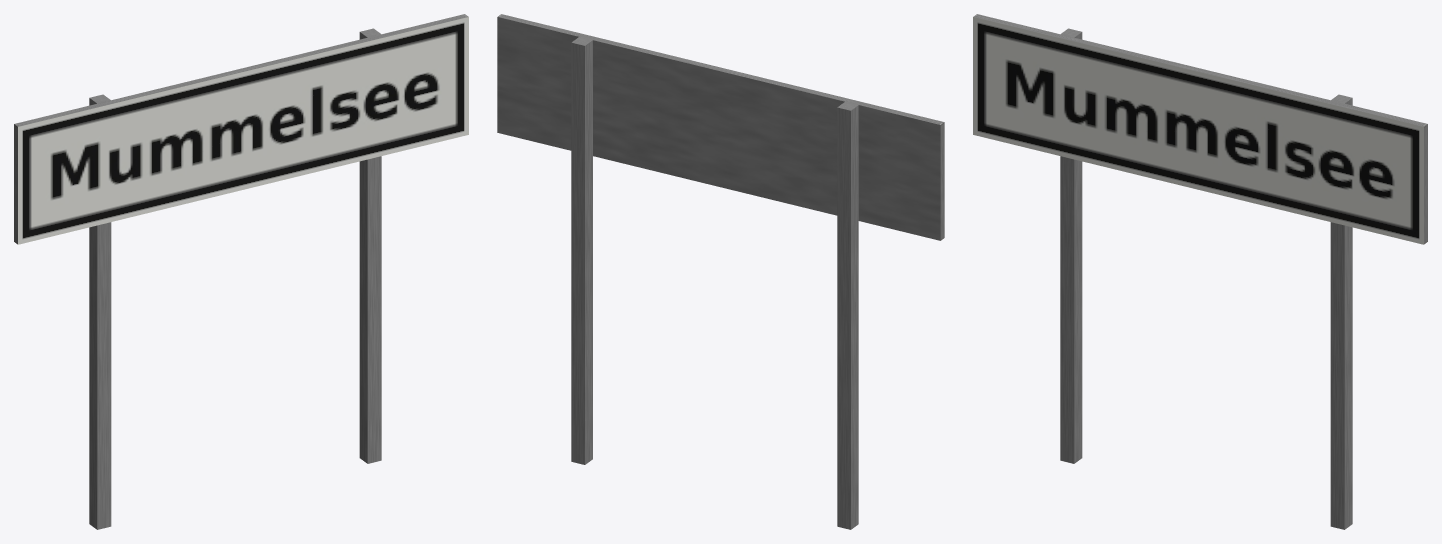
Rendered from SM_sign_place_05.fbx.
3 renders of one model, left to right at view 1: azimuth 30°, elevation 25°; view 2: azimuth 150°, elevation 25°; view 3: azimuth 330°, elevation 25°, orthographic.
Parts seen in each view (by area): view 1: SM_sign_place_05; view 2: SM_sign_place_05; view 3: SM_sign_place_05.
Boxes of the visible parts, x1,y1,x2,y2 form: SM_sign_place_05: (14,14,468,529); SM_sign_place_05: (497,14,944,529); SM_sign_place_05: (973,14,1427,529).
Size of the model in its own units: 2.6 by 2.35 by 0.12.
